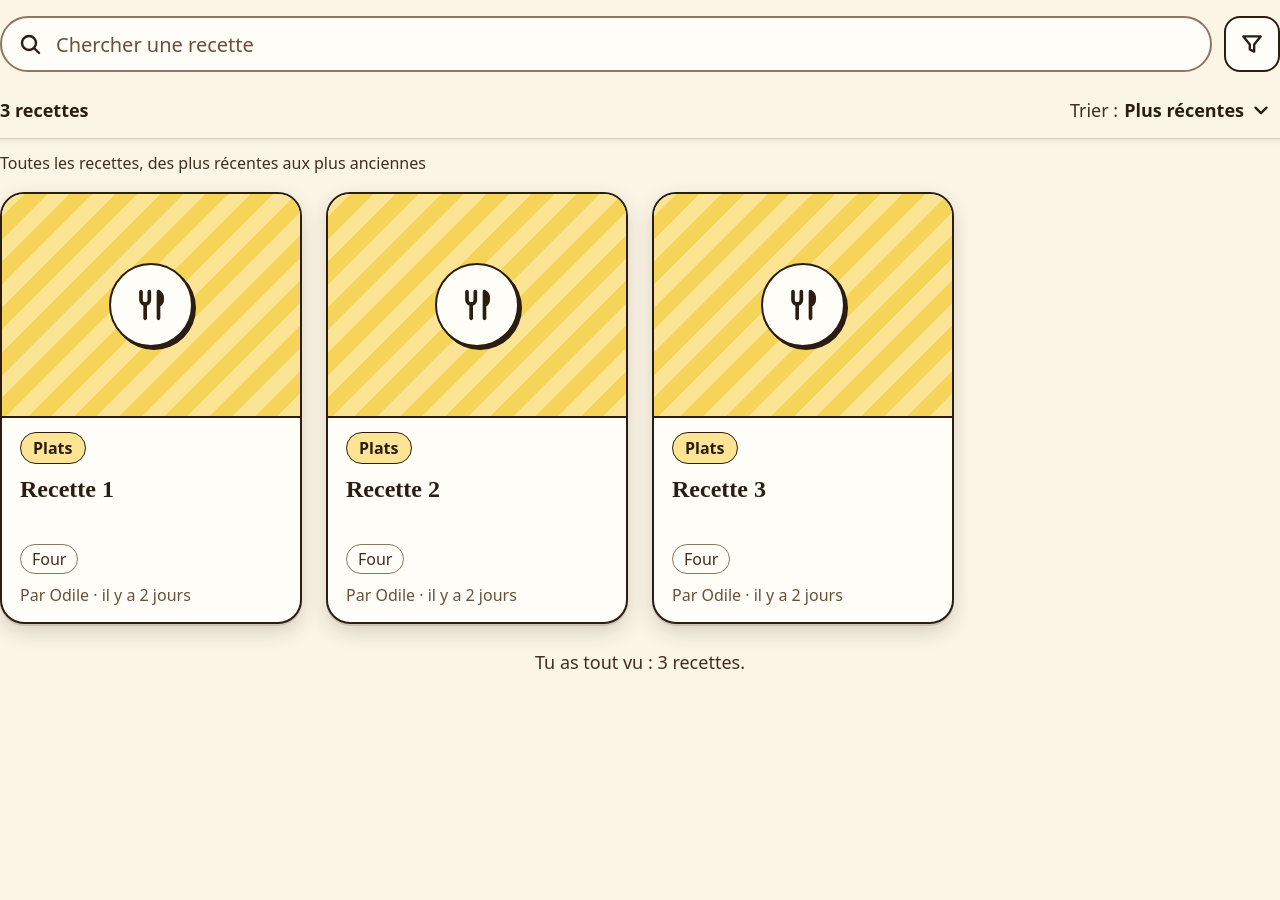
Test: FiltersControl in the screen › tells when the filters could not be loaded, and loads them again
The width and height of the screenshot is (1280, 900).
Expected: the link "Recette 1" is shown, [0, 192, 302, 624]
What coordinates should you click on to do the following:
click the button named "Filtres"
I would click on:
 (1252, 44)
Its box is [1224, 16, 1279, 72].
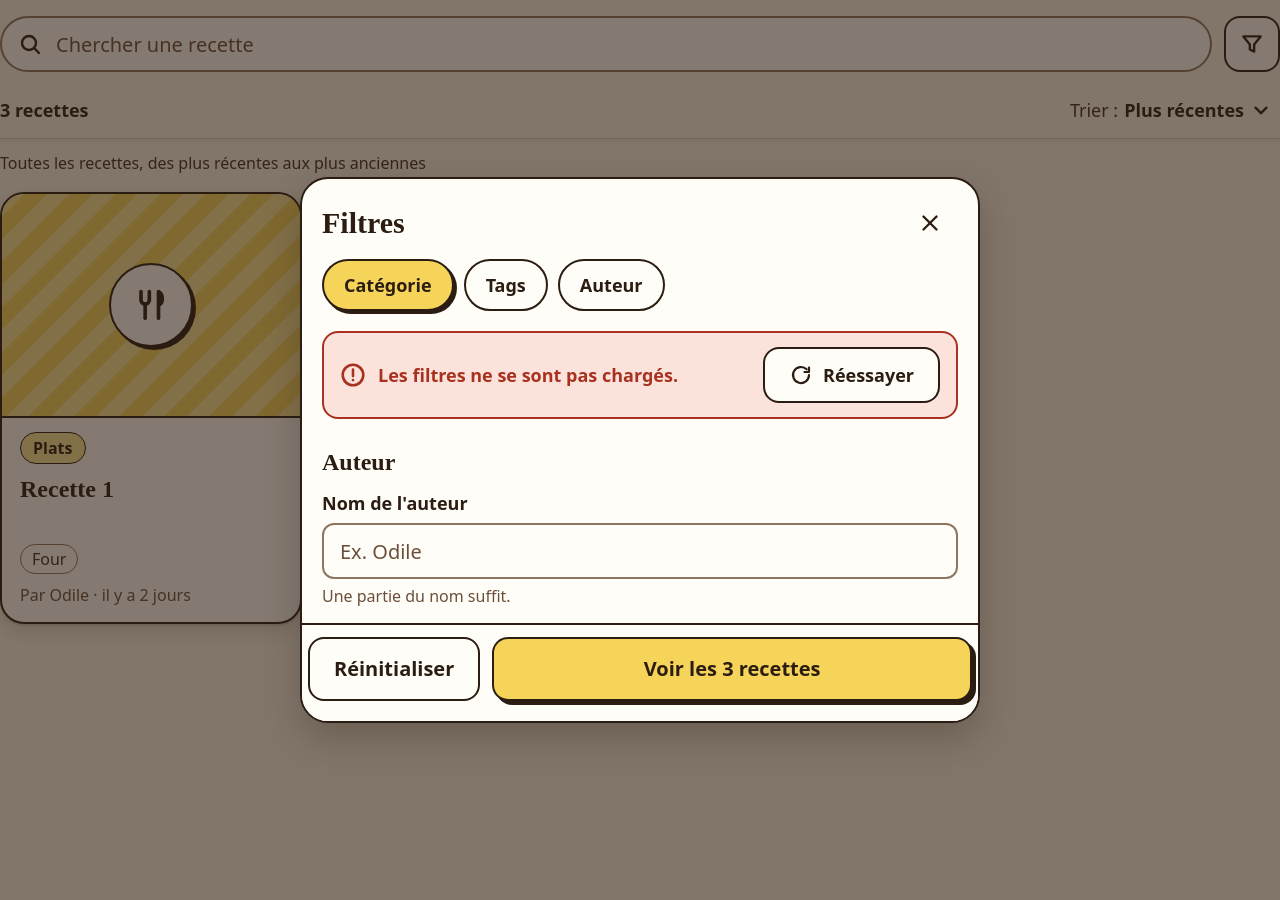
Expected: the text "Les filtres ne se sont pas chargés." is shown, [378, 363, 678, 387]
What coordinates should you click on to do the following:
click the button "Réessayer"
I would click on:
 (852, 375)
Its box is [763, 347, 940, 403].
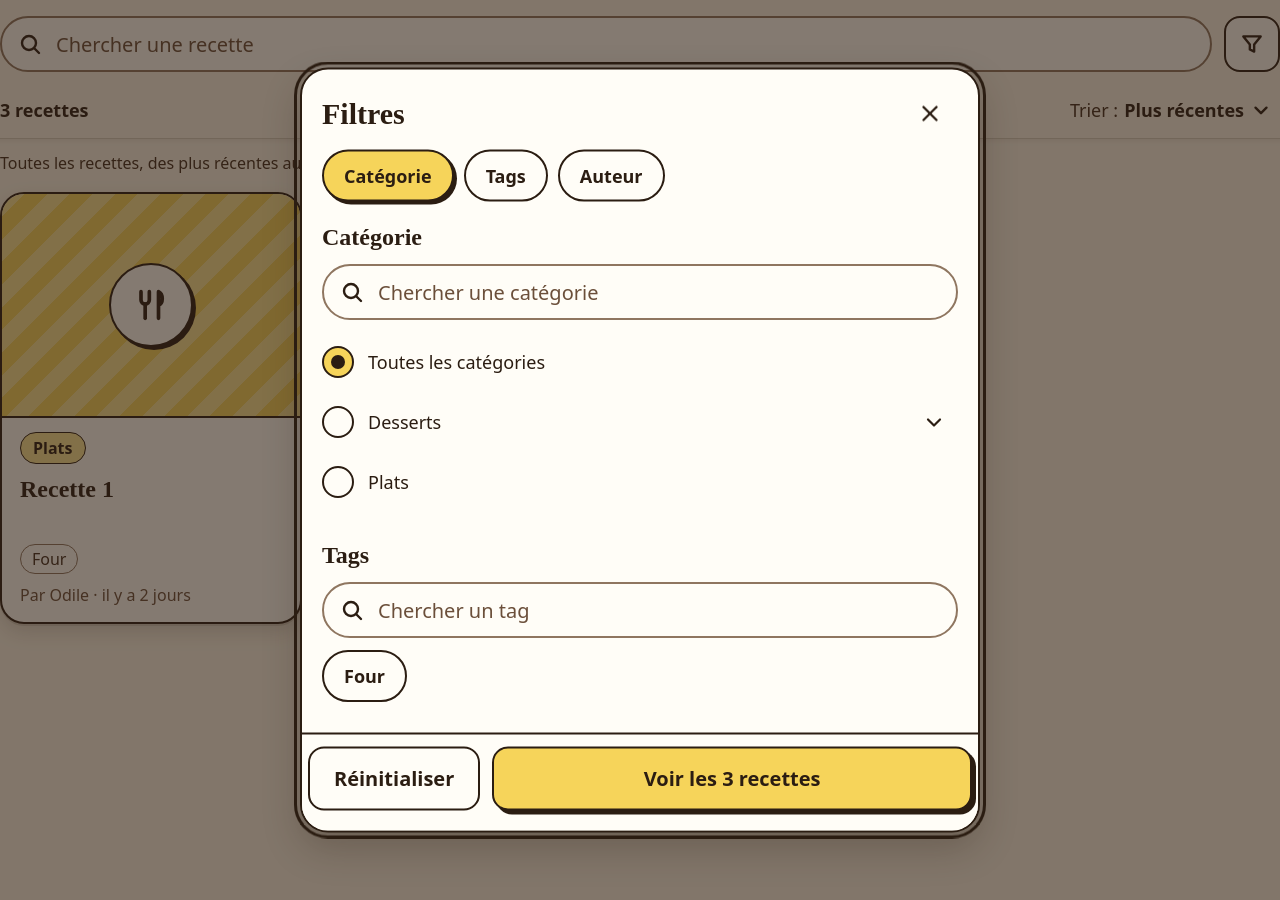
Expected: the button "Four" is shown, [322, 650, 407, 702]
